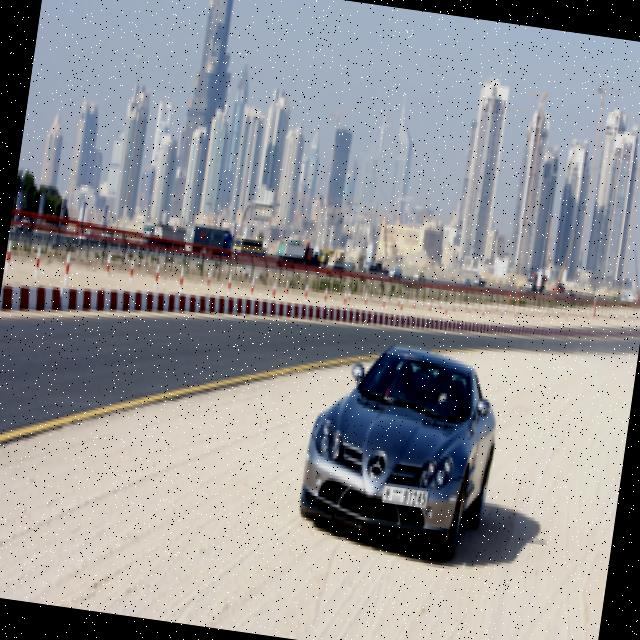Autre: (381, 480, 432, 516)
